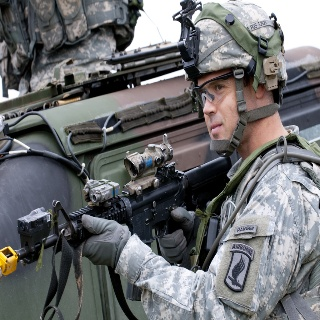rifle: (2, 131, 234, 311)
